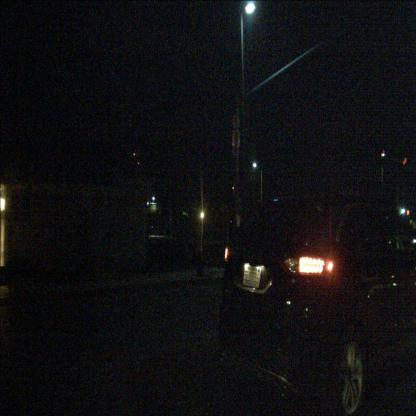vehicle-car: (218, 184, 416, 416)
